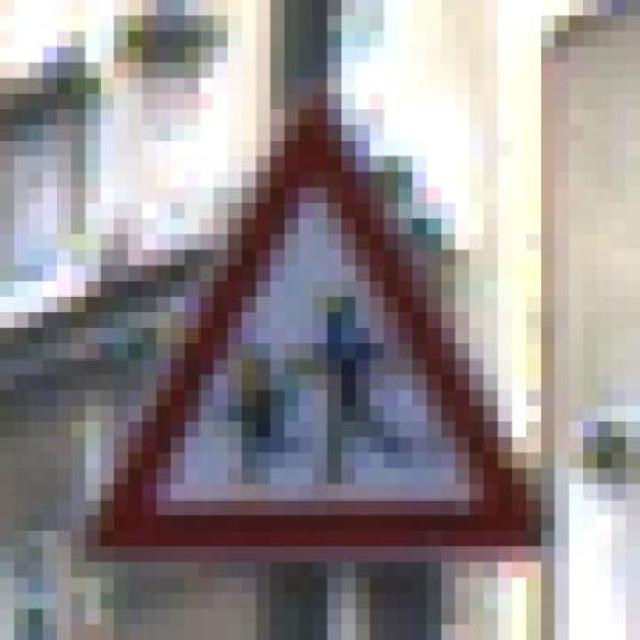Beware of children: (66, 81, 563, 581)
